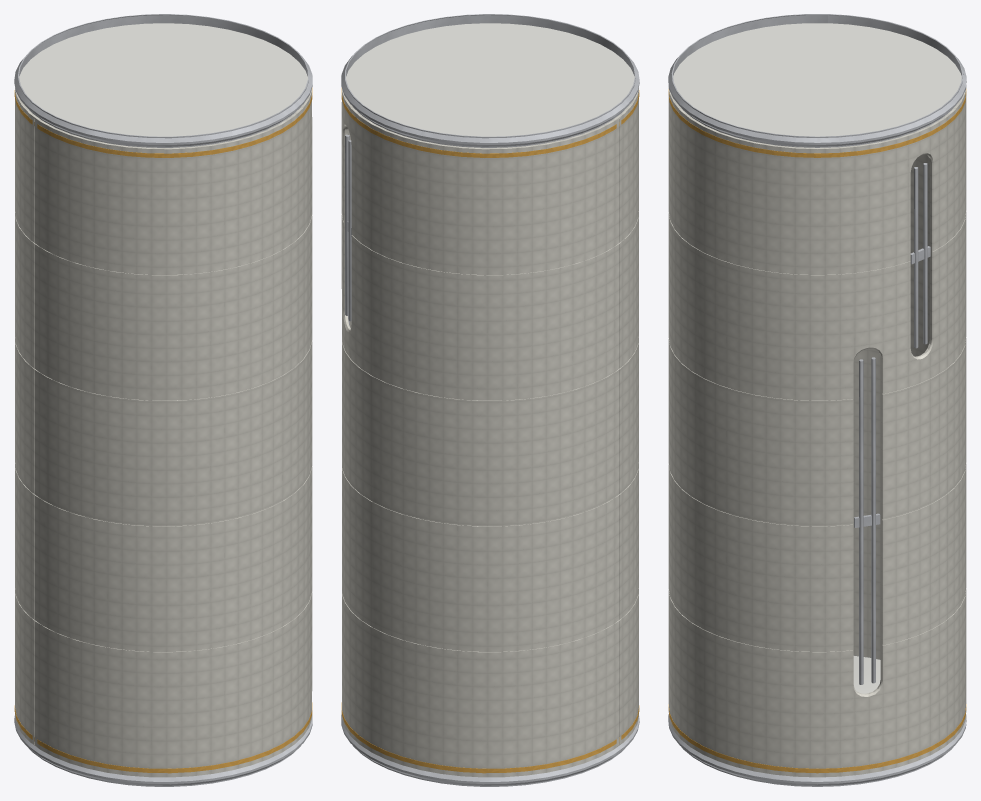
The model's file is ax_tank_05_hydrolox_xl_long.glb.
The picture shows the model from 3 angles, left to right: view 1: azimuth 30°, elevation 25°; view 2: azimuth 150°, elevation 25°; view 3: azimuth 270°, elevation 25°; orthographic projection.
Parts seen in each view (by area): view 1: mli_blanket, dome_caps, end_rings, blanket_bands; view 2: mli_blanket, dome_caps, end_rings, blanket_bands, raceway_lines; view 3: mli_blanket, dome_caps, end_rings, raceway_lines, blanket_bands.
Boxes of the visible parts, left/top/right/bottom form: mli_blanket: left=15, top=87, right=312, bottom=777; dome_caps: left=19, top=23, right=307, bottom=147; end_rings: left=14, top=14, right=312, bottom=786; blanket_bands: left=14, top=88, right=312, bottom=773; mli_blanket: left=341, top=87, right=638, bottom=777; dome_caps: left=346, top=23, right=634, bottom=147; end_rings: left=341, top=14, right=639, bottom=786; blanket_bands: left=341, top=88, right=639, bottom=773; raceway_lines: left=345, top=134, right=351, bottom=326; mli_blanket: left=668, top=87, right=966, bottom=777; dome_caps: left=673, top=23, right=961, bottom=693; end_rings: left=668, top=14, right=966, bottom=786; raceway_lines: left=854, top=163, right=930, bottom=684; blanket_bands: left=668, top=89, right=966, bottom=773.
Size of the model in its own units: 4.99 by 12 by 5.
4 materials, 3 textured.
